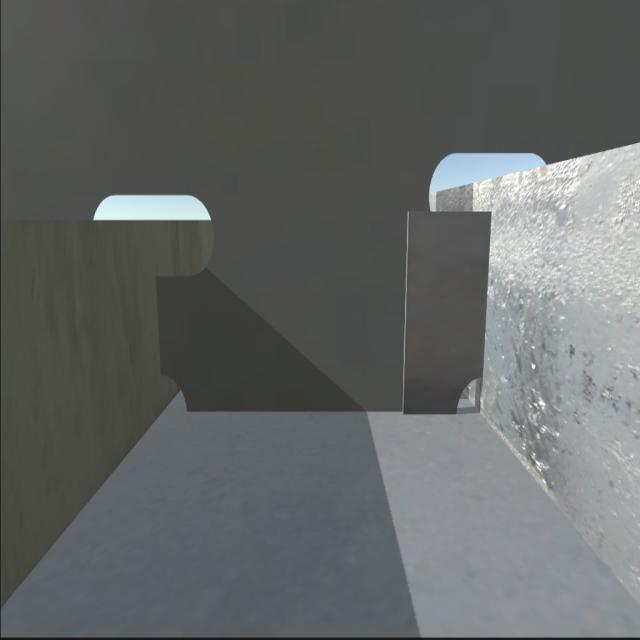fillet_hole: (157, 366, 191, 418), (453, 373, 486, 416)
fillet_yong_jeop_jang: (175, 391, 458, 426)
longi_yong_jeop_jang: (471, 221, 503, 381), (148, 278, 170, 369)
plate_CP01: (410, 210, 483, 415)
